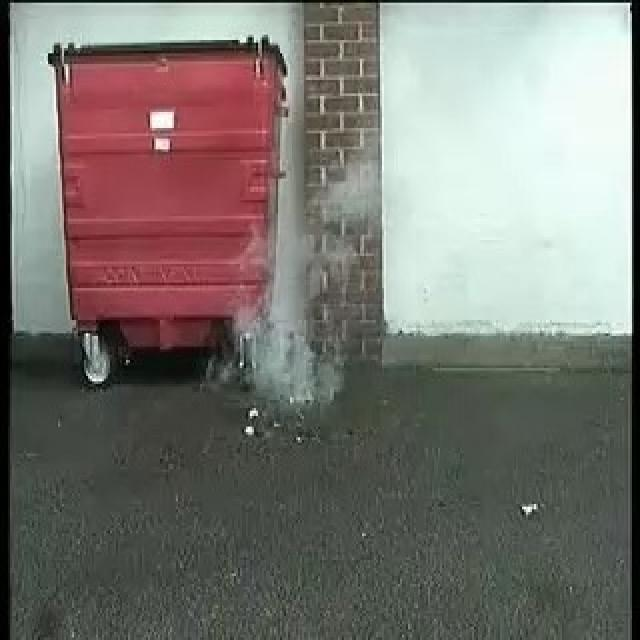smoke: (238, 303, 345, 401)
